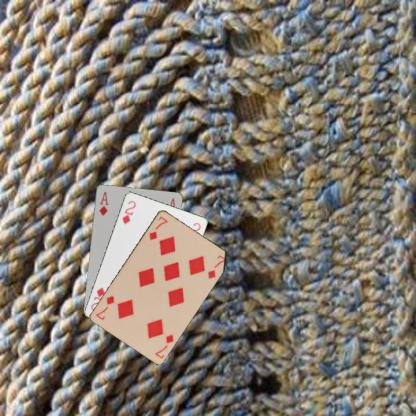2d: (120, 198, 137, 225)
7d: (152, 331, 175, 359), (146, 214, 169, 241)
Ad: (97, 189, 109, 217)
